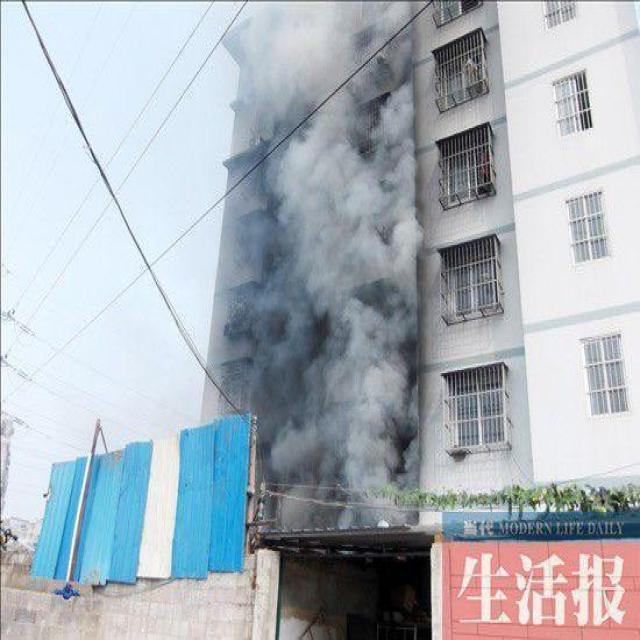smoke: (244, 3, 428, 509)
